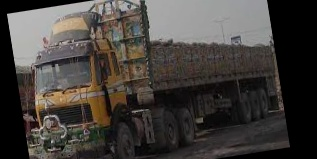truck: (13, 0, 289, 159)
